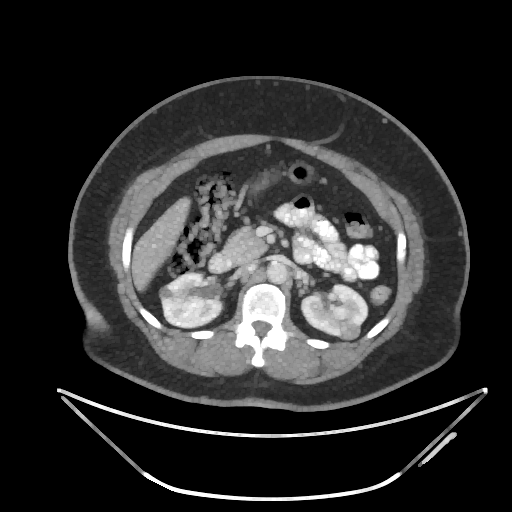Lesion: (336, 319, 360, 339)
